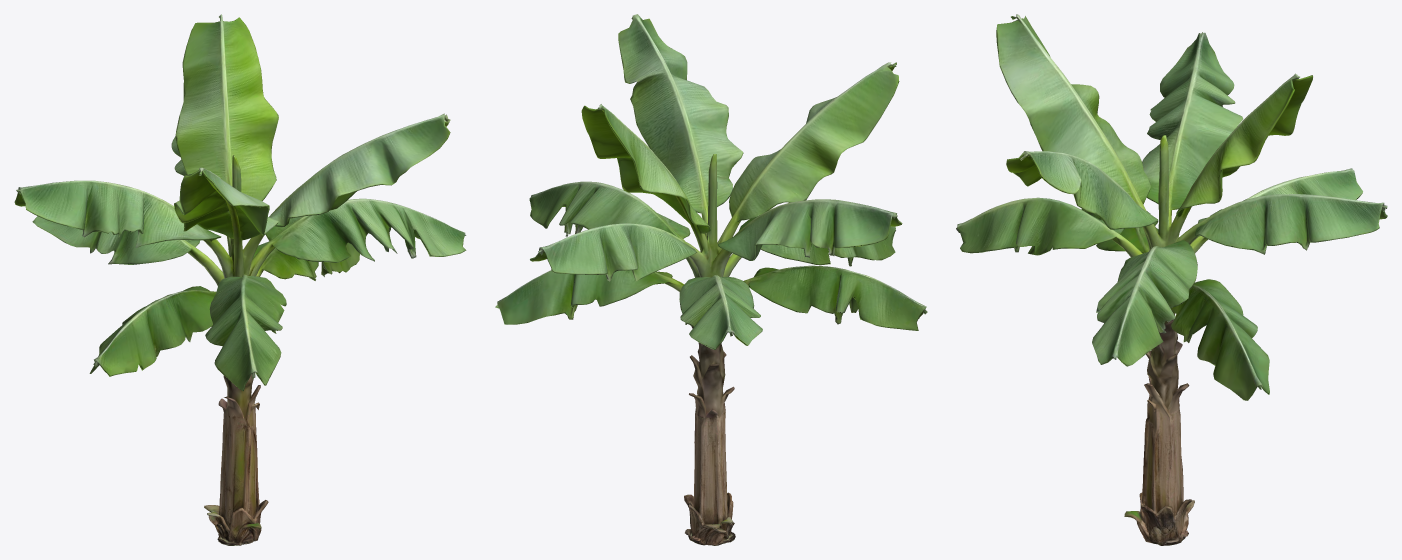
The model's file is banana_b.glb.
The picture shows the model from 3 angles, left to right: view 1: azimuth 30°, elevation 25°; view 2: azimuth 150°, elevation 25°; view 3: azimuth 270°, elevation 25°; orthographic projection. The views are drawn at different scales.
Parts seen in each view (by area): view 1: banana_b; view 2: banana_b; view 3: banana_b.
Boxes of the visible parts, x1=… form: banana_b: x1=14, y1=14, x2=466, y2=545; banana_b: x1=495, y1=14, x2=927, y2=545; banana_b: x1=956, y1=14, x2=1387, y2=545.
Bounding box in the file's own units: 0.8978 × 0.9812 × 0.7881.
Materials: 1 (1 with a texture image).
